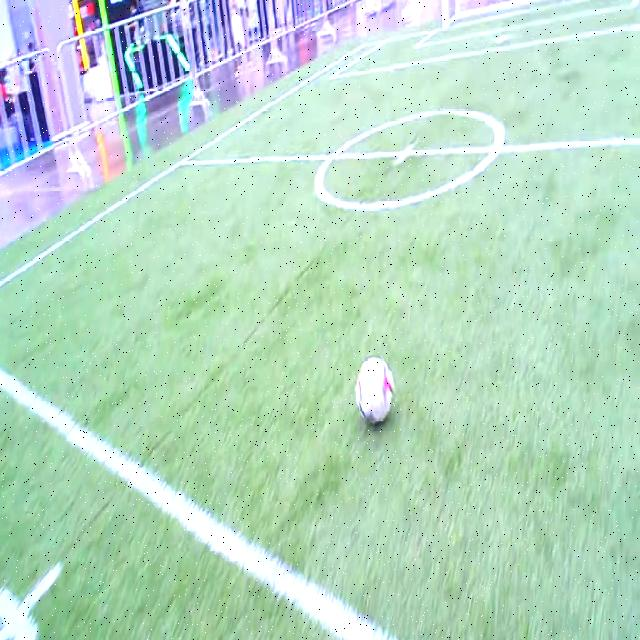ball: (355, 355, 395, 424)
